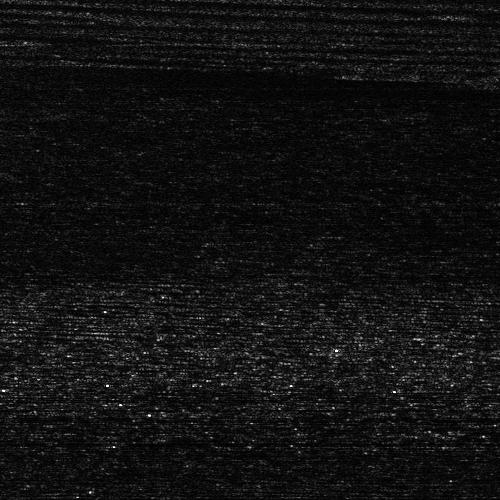rock: (416, 9, 500, 18)
shadow: (463, 9, 500, 18)
